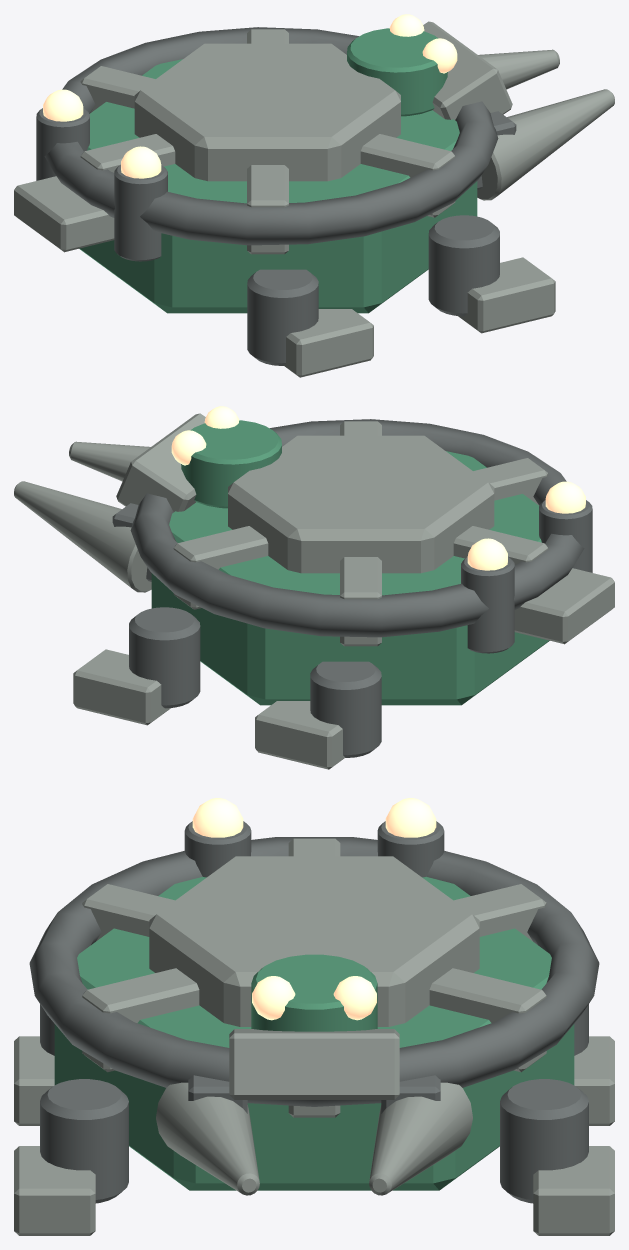
Rendered from enemy_brute.glb.
3 views of the same model, one above another, from view 1: azimuth 30°, elevation 25°; view 2: azimuth 150°, elevation 25°; view 3: azimuth 270°, elevation 25° (orthographic). The views are drawn at different scales.
Visible parts, largest first — view 1: Cylinder.005, Cylinder.004, Torus, Cone, Cylinder, Cylinder.001, Cylinder.006, Cube.013, Cube, Cube.001, Cube.012, Cylinder.007 (+12 smaller); view 2: Cylinder.005, Cylinder.004, Torus, Cone.001, Cylinder.002, Cylinder.003, Cylinder.006, Cube.013, Cube.002, Cube.003, Cube.012, Cylinder.008 (+12 smaller); view 3: Cylinder.005, Cylinder.004, Torus, Cube.012, Cylinder, Cylinder.002, Cone, Cone.001, Cylinder.006, Cube, Cube.002, Cube.005 (+15 smaller).
Boxes of the visible parts, x1,y1,x2,y2 form: Cylinder.005: (134,43,400,181); Cylinder.004: (79,59,477,313); Torus: (44,27,498,245); Cone: (477,89,614,200); Cylinder: (428,215,499,316); Cylinder.001: (247,269,318,365); Cylinder.006: (347,28,447,116); Cube.013: (14,176,114,252); Cube: (458,257,555,333); Cube.001: (283,309,373,377); Cube.012: (423,21,512,119); Cylinder.007: (114,165,167,261); Cylinder.005: (228,435,494,573); Cylinder.004: (151,451,549,705); Torus: (130,419,584,637); Cone.001: (14,481,151,592); Cylinder.002: (129,607,200,708); Cylinder.003: (310,661,381,757); Cylinder.006: (181,420,281,508); Cube.013: (514,568,614,644); Cube.002: (73,649,170,725); Cube.003: (255,701,345,769); Cube.012: (116,413,205,511); Cylinder.008: (461,557,514,653); Cylinder.005: (149,856,479,1026); Cylinder.004: (54,876,574,1190); Torus: (29,837,599,1106); Cube.012: (229,1029,399,1099); Cylinder: (40,1079,128,1203); Cylinder.002: (500,1079,588,1203); Cone: (156,1082,259,1195); Cone.001: (369,1082,472,1195); Cylinder.006: (251,954,377,1031); Cube: (14,1146,95,1235); Cube.002: (533,1146,614,1235); Cube.005: (429,968,546,1072).
Bounding box in the file's own units: 2.12 × 0.75 × 1.62.
